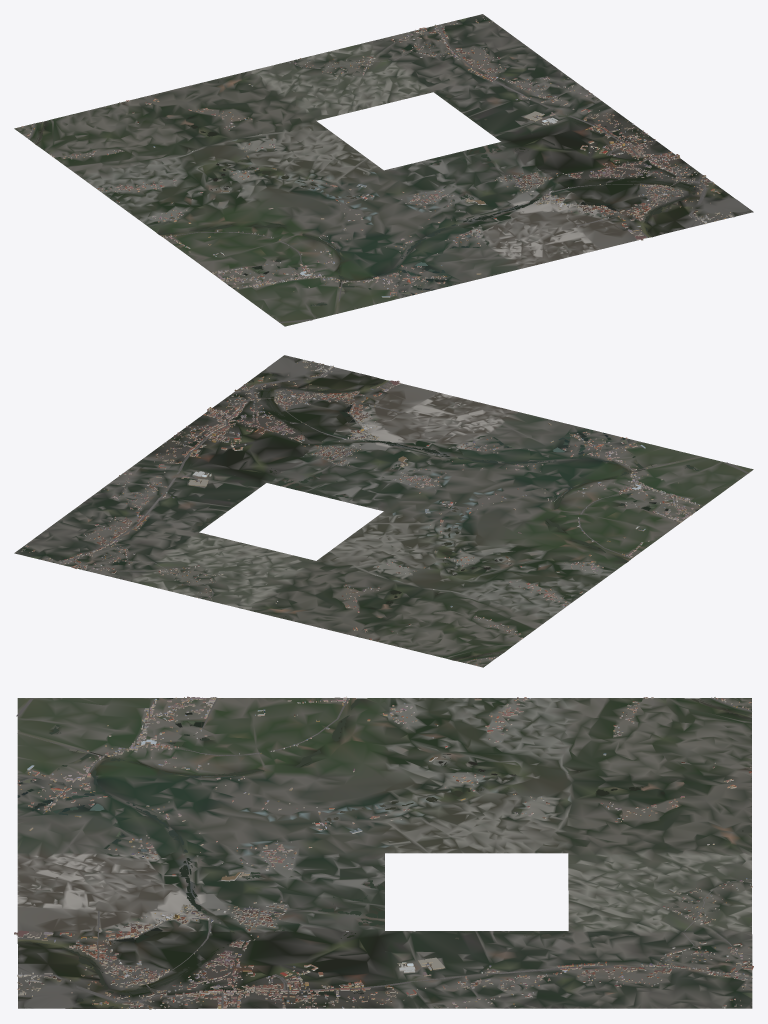
The picture shows the model from 3 angles, top to bottom: view 1: azimuth 30°, elevation 25°; view 2: azimuth 150°, elevation 25°; view 3: azimuth 270°, elevation 25°; orthographic projection. The views are drawn at different scales.
Visible parts, largest first — view 1: ground, buildings, water, roads; view 2: ground, buildings, water, roads; view 3: ground, buildings, water, roads.
Boxes of the visible parts, x1,y1,x2,y2 form: ground: (14,14,753,326); buildings: (21,17,733,297); water: (35,81,720,306); roads: (28,25,706,322); ground: (14,355,753,667); buildings: (21,359,699,665); water: (130,373,701,659); roads: (58,367,748,662); ground: (17,697,752,1008); buildings: (14,696,753,1009); water: (17,698,751,1008); roads: (16,697,752,1009).
Bounding box in the file's own units: 5630 × 34.14 × 5650.
